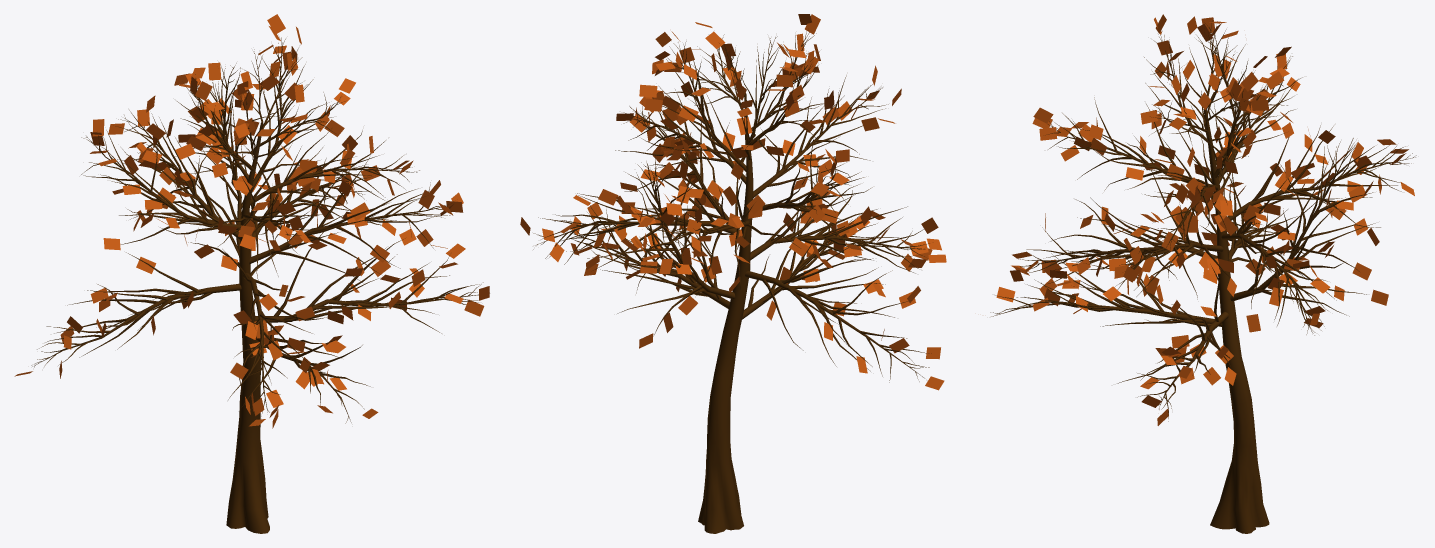
File: tree_04.FBX
3 views of the same model, side by side, from view 1: azimuth 30°, elevation 25°; view 2: azimuth 150°, elevation 25°; view 3: azimuth 270°, elevation 25° (orthographic).
Visible parts, largest first — view 1: Foliage001; view 2: Foliage001; view 3: Foliage001.
Part boxes in pixels (bbox=[...]): Foliage001: bbox=[14, 14, 489, 533]; Foliage001: bbox=[520, 14, 946, 533]; Foliage001: bbox=[990, 14, 1416, 533].
Bounding box in the file's own units: 116 × 127 × 105.
